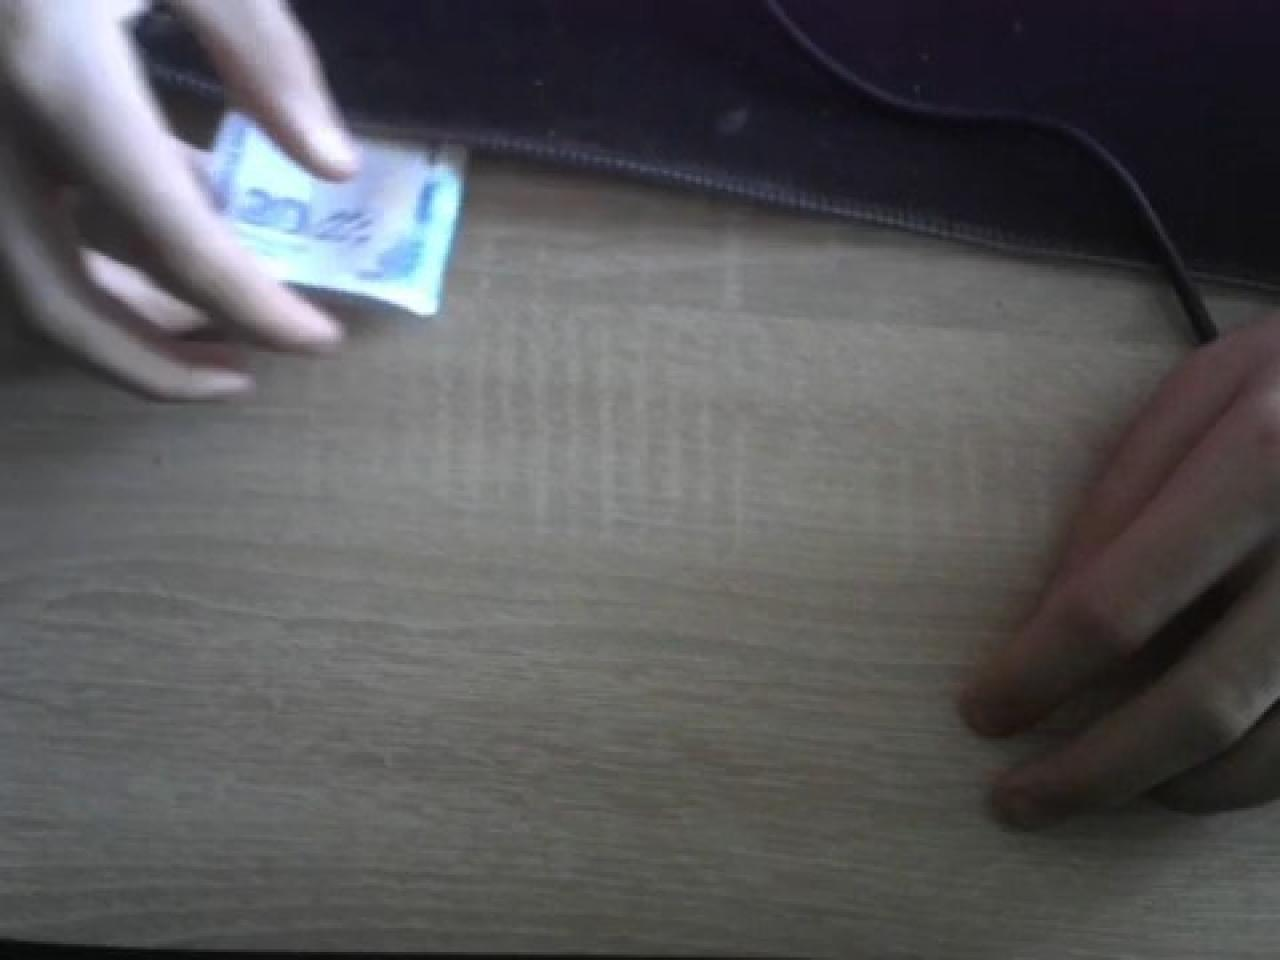20leva: (160, 0, 467, 320)
